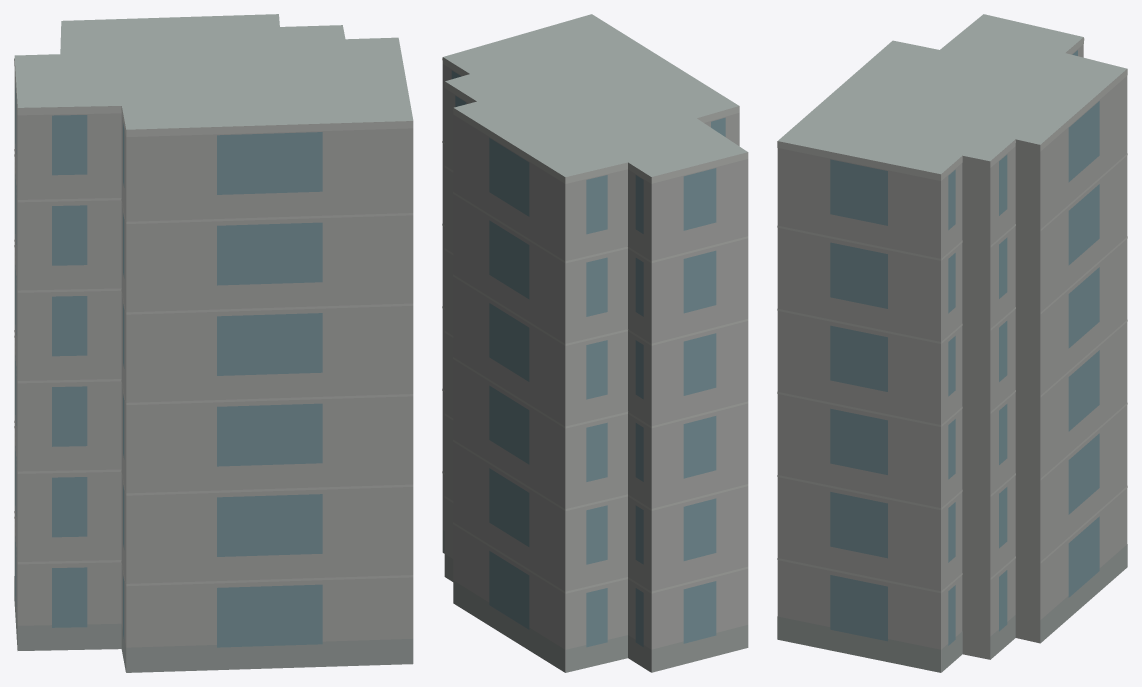
The model's file is survey-upis-32807905.glb.
3 views of the same model, side by side, from view 1: azimuth 30°, elevation 25°; view 2: azimuth 150°, elevation 25°; view 3: azimuth 270°, elevation 25° (orthographic). The views are drawn at different scales.
Parts seen in each view (by area): view 1: survey-upis-32807905.tmp; view 2: survey-upis-32807905.tmp; view 3: survey-upis-32807905.tmp.
Boxes of the visible parts, x1,y1,x2,y2 form: survey-upis-32807905.tmp: (14, 14, 413, 672); survey-upis-32807905.tmp: (442, 14, 748, 672); survey-upis-32807905.tmp: (777, 14, 1127, 672).
Bounding box in the file's own units: 12.33 × 17.85 × 11.38.
